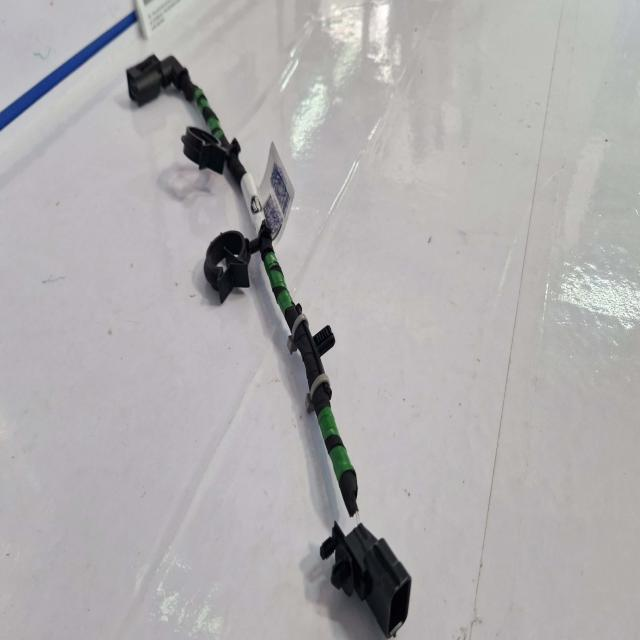AJ20_D6_Cable: (182, 85, 358, 516)
Clip: (204, 220, 272, 304), (181, 127, 245, 185)
Connector: (320, 522, 411, 637), (126, 56, 194, 105)
Info: (259, 143, 295, 244)
strap: (305, 373, 330, 413), (288, 314, 308, 353)
